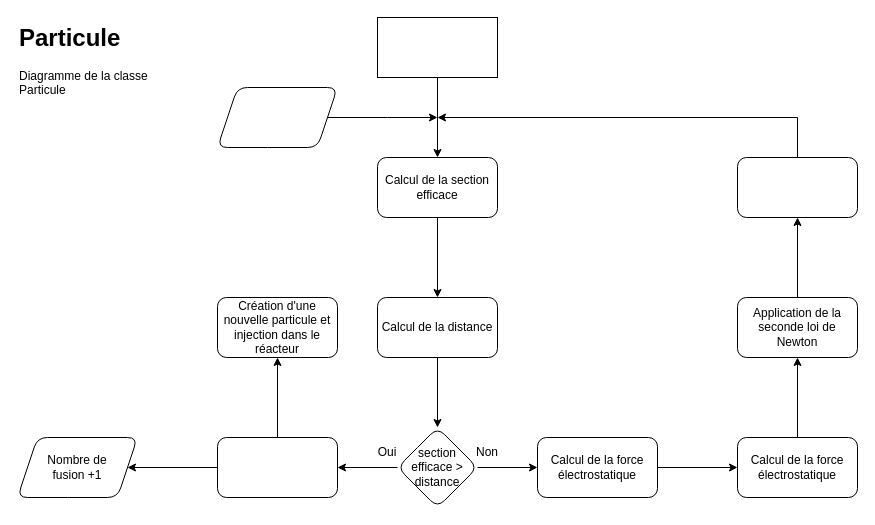
This 875x525 diagram has some shape labels left out. The shapes that lost their labels are listed below. From the top down, each one's centre as x and y in pixels, then its label:
(437,47): Initialisation
(277,117): Vitesse initial
(797,187): Mise en mouvement
(277,467): Disparition de la particule
